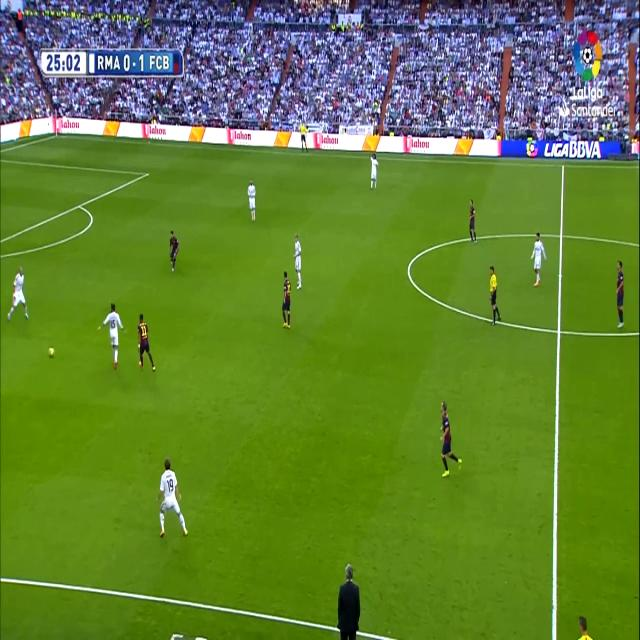bigarea_bottom_outter: (76, 198, 84, 212)
halfcircle_bottom: (553, 316, 565, 344)
halfcircle_top: (557, 223, 567, 245)
midline_top_intersection: (559, 159, 567, 173)
